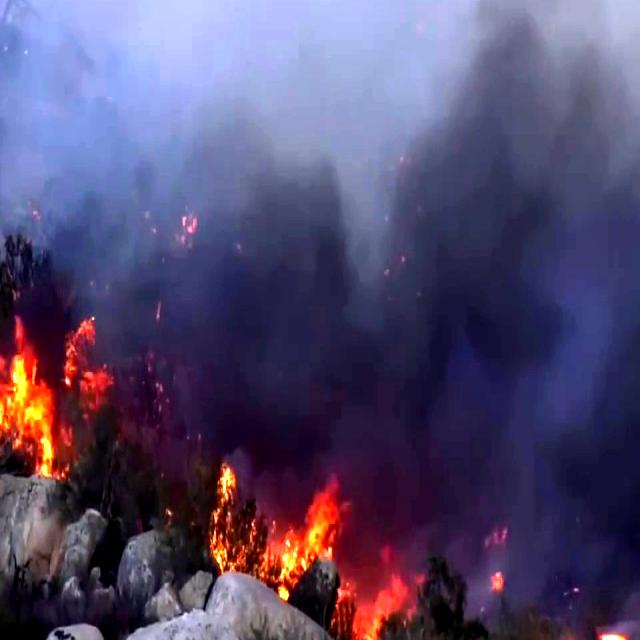fire: (0, 317, 95, 488)
smoke: (246, 0, 640, 474)
